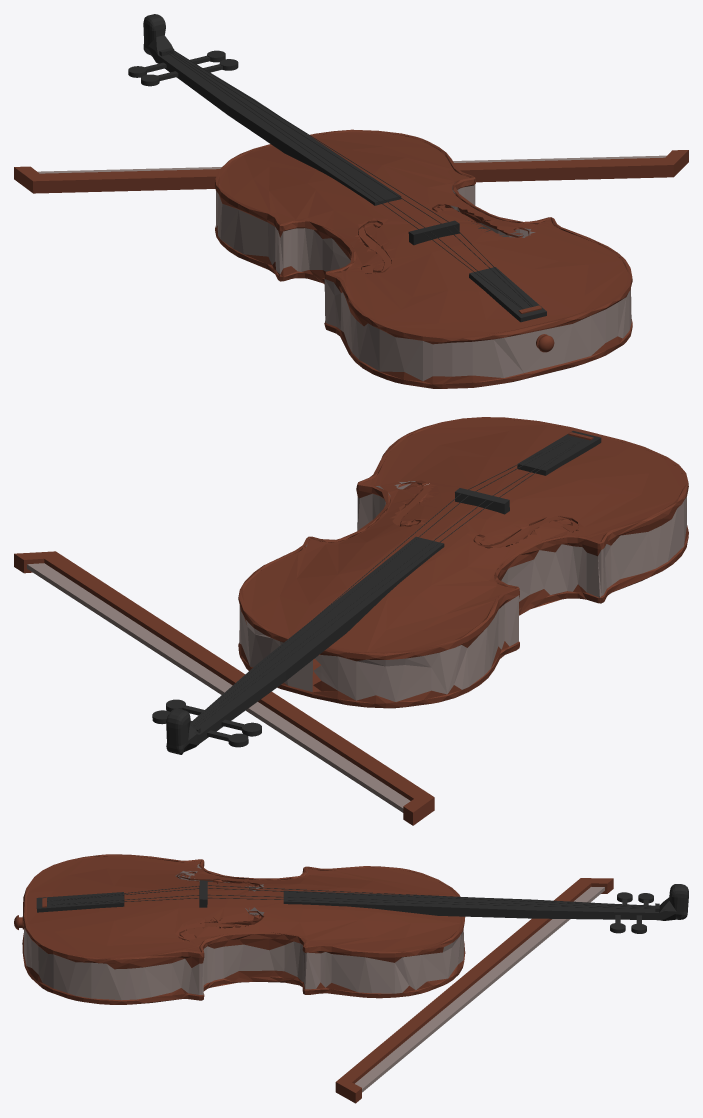
The model's file is Violin.gltf.
3 renders of one model, top to bottom at view 1: azimuth 30°, elevation 25°; view 2: azimuth 150°, elevation 25°; view 3: azimuth 270°, elevation 25°, orthographic. The views are drawn at different scales.
Parts seen in each view (by area): view 1: node-0; view 2: node-0; view 3: node-0.
Part boxes in pixels (x1,y1,x2,y2): node-0: [14, 14, 688, 388]; node-0: [14, 417, 688, 825]; node-0: [14, 854, 688, 1103].
Bounding box in the file's own units: 591188 × 98574 × 780572.
